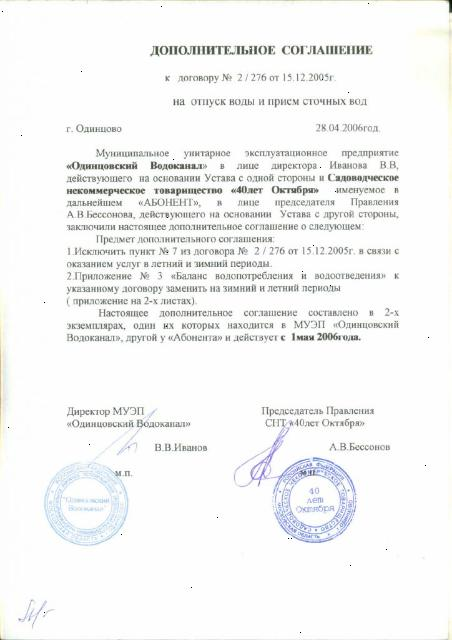stamp: (272, 458, 356, 546)
